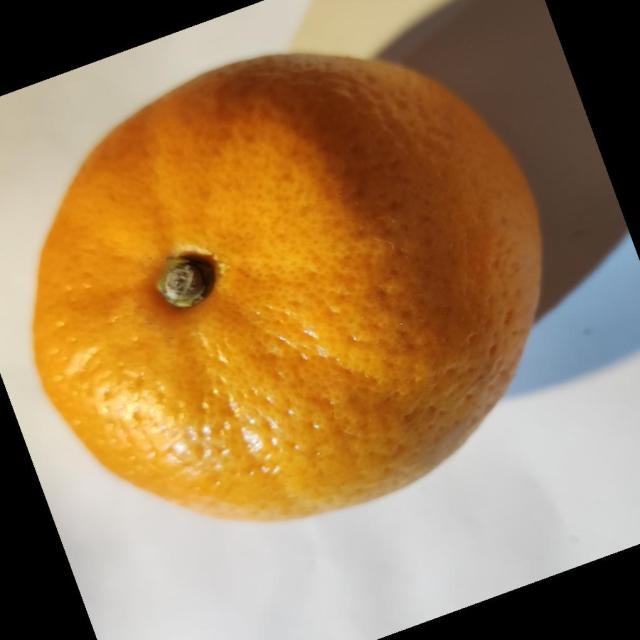fresh orange: (30, 50, 544, 522)
